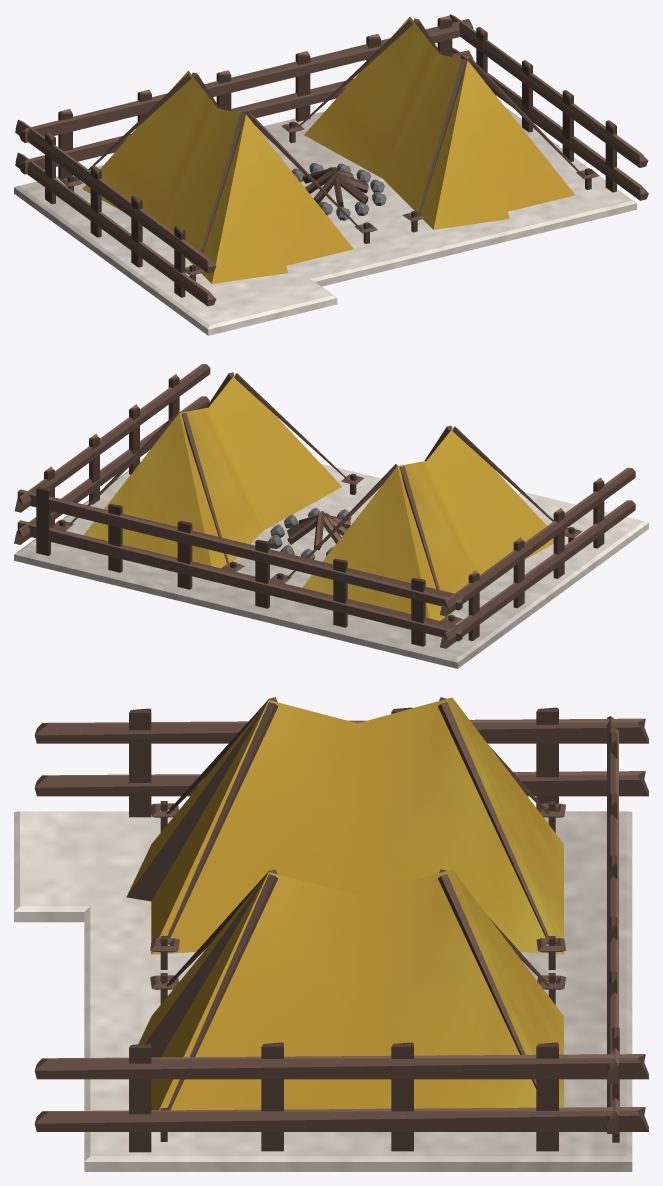
The model's file is camp_0lvl.fbx.
3 renders of one model, top to bottom at view 1: azimuth 30°, elevation 25°; view 2: azimuth 150°, elevation 25°; view 3: azimuth 270°, elevation 25°, orthographic. The views are drawn at different scales.
Visible parts, largest first — view 1: camp_0lvl; view 2: camp_0lvl; view 3: camp_0lvl.
Boxes of the visible parts, box(x1,y1,x2,y2) form: camp_0lvl: box(14, 14, 648, 335); camp_0lvl: box(14, 364, 648, 668); camp_0lvl: box(14, 697, 648, 1171).
Bounding box in the file's own units: 601 × 173 × 460.
